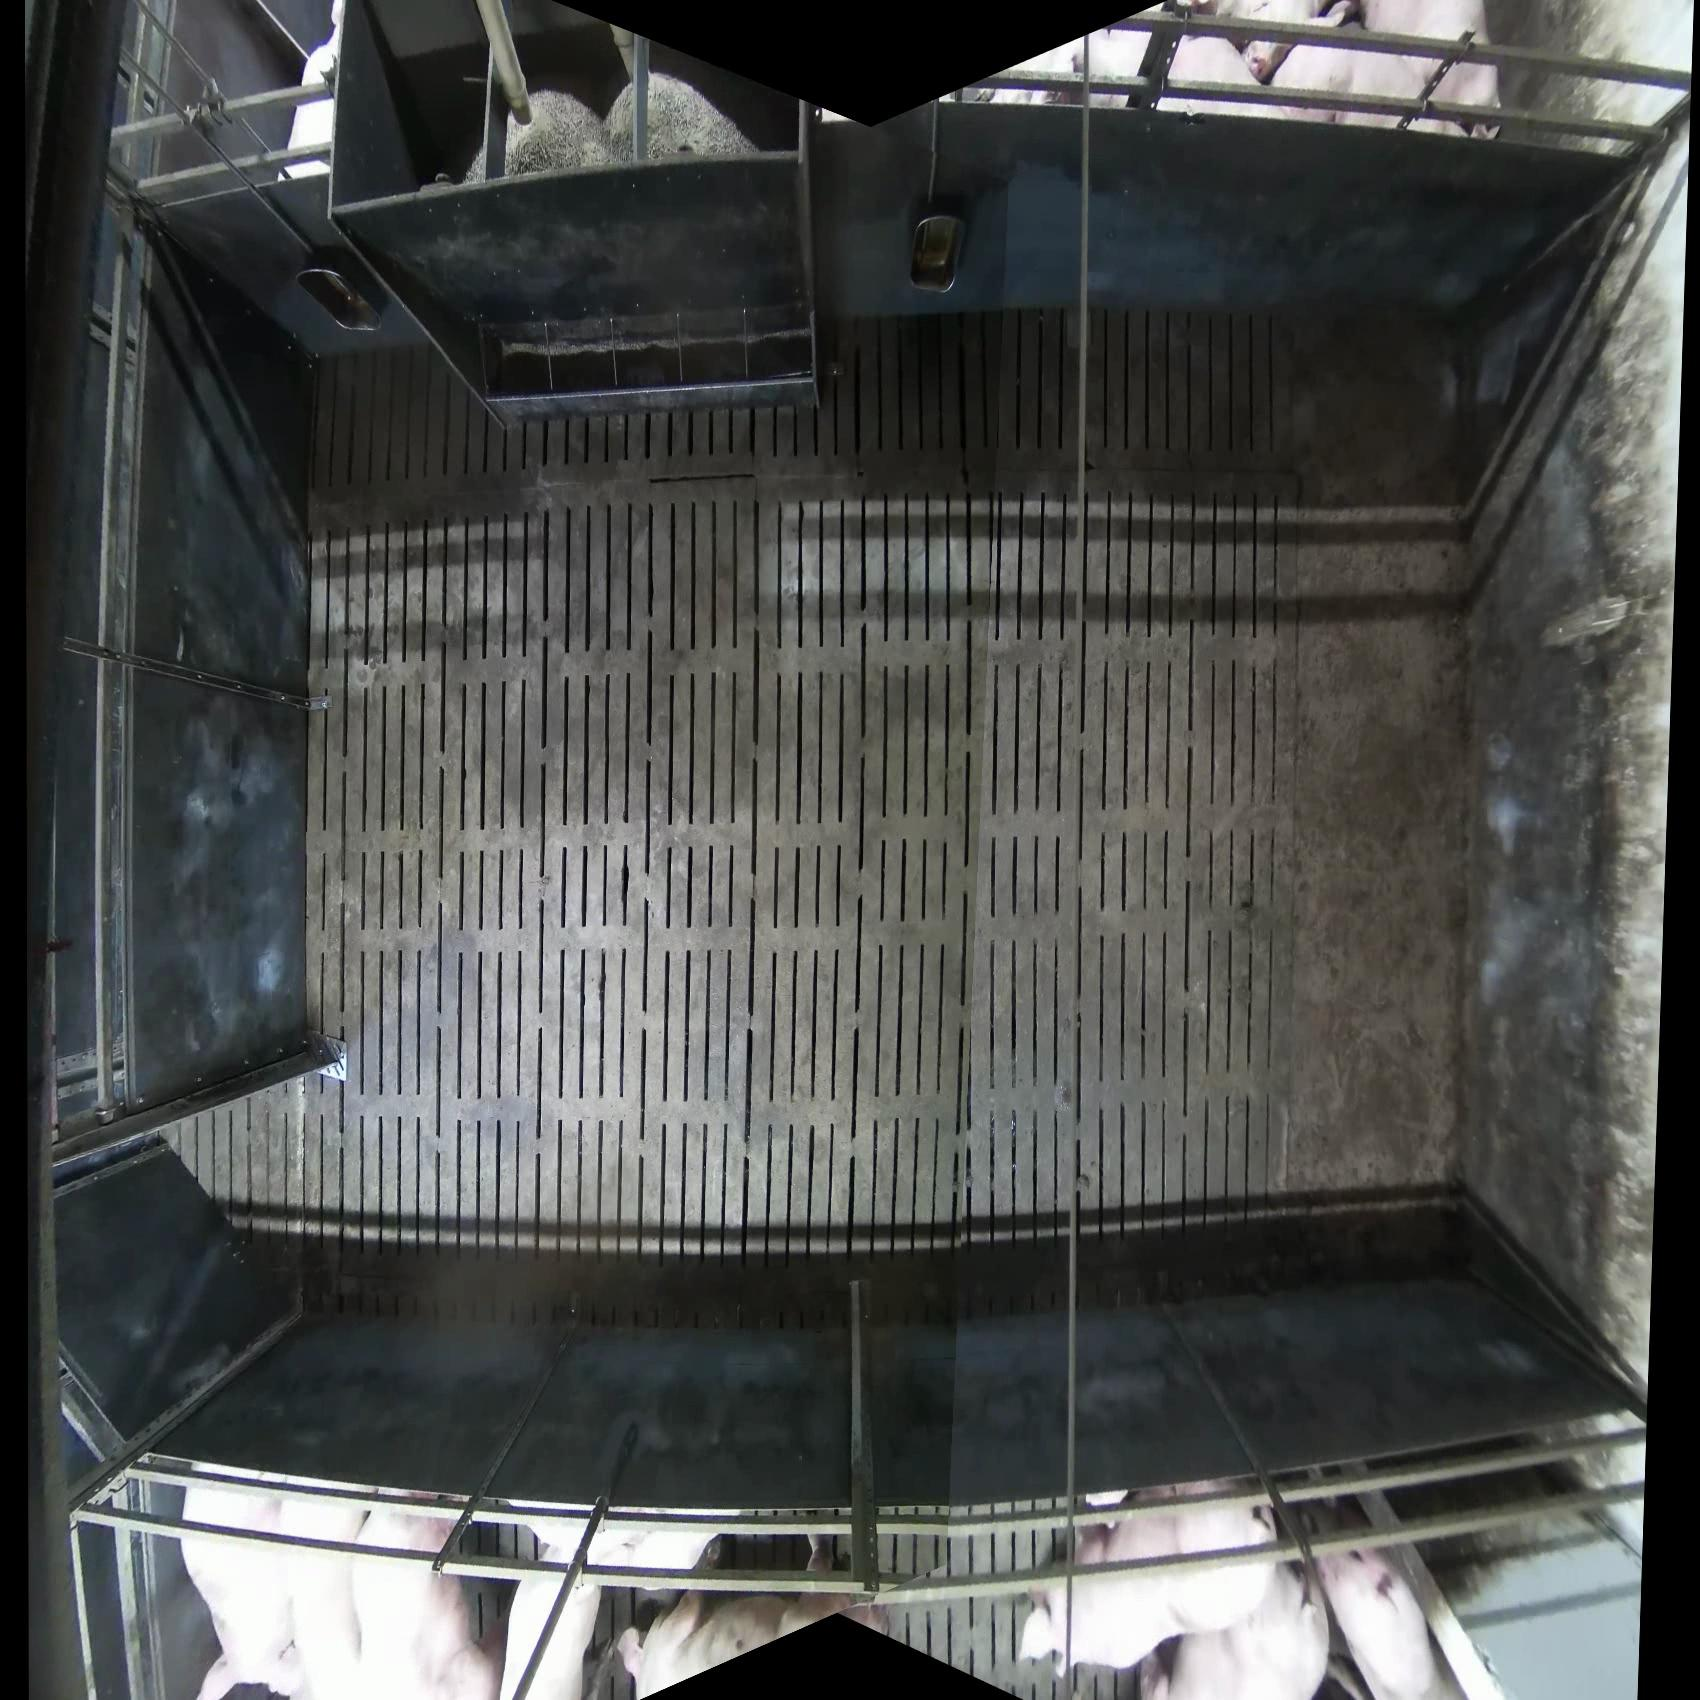pig: (176, 1474, 1487, 1698), (179, 1485, 504, 1698), (1018, 1480, 1333, 1698), (616, 1530, 880, 1698), (1309, 1498, 1465, 1698), (1136, 1554, 1333, 1698)
